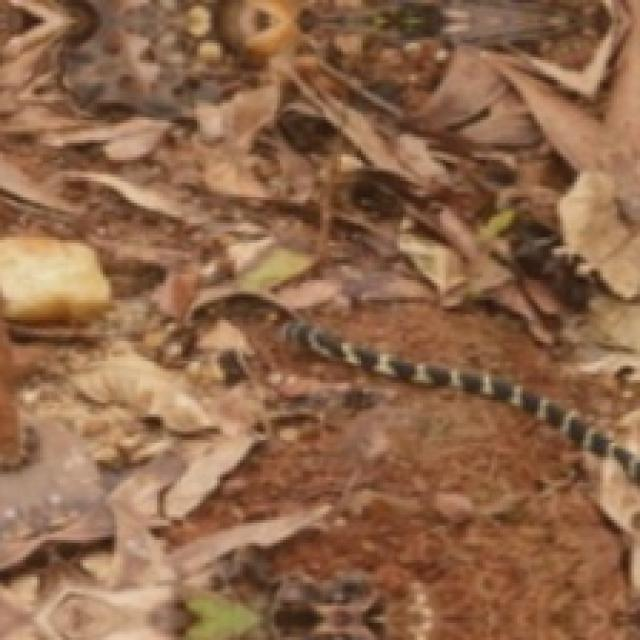king cobra: (149, 297, 637, 637)
